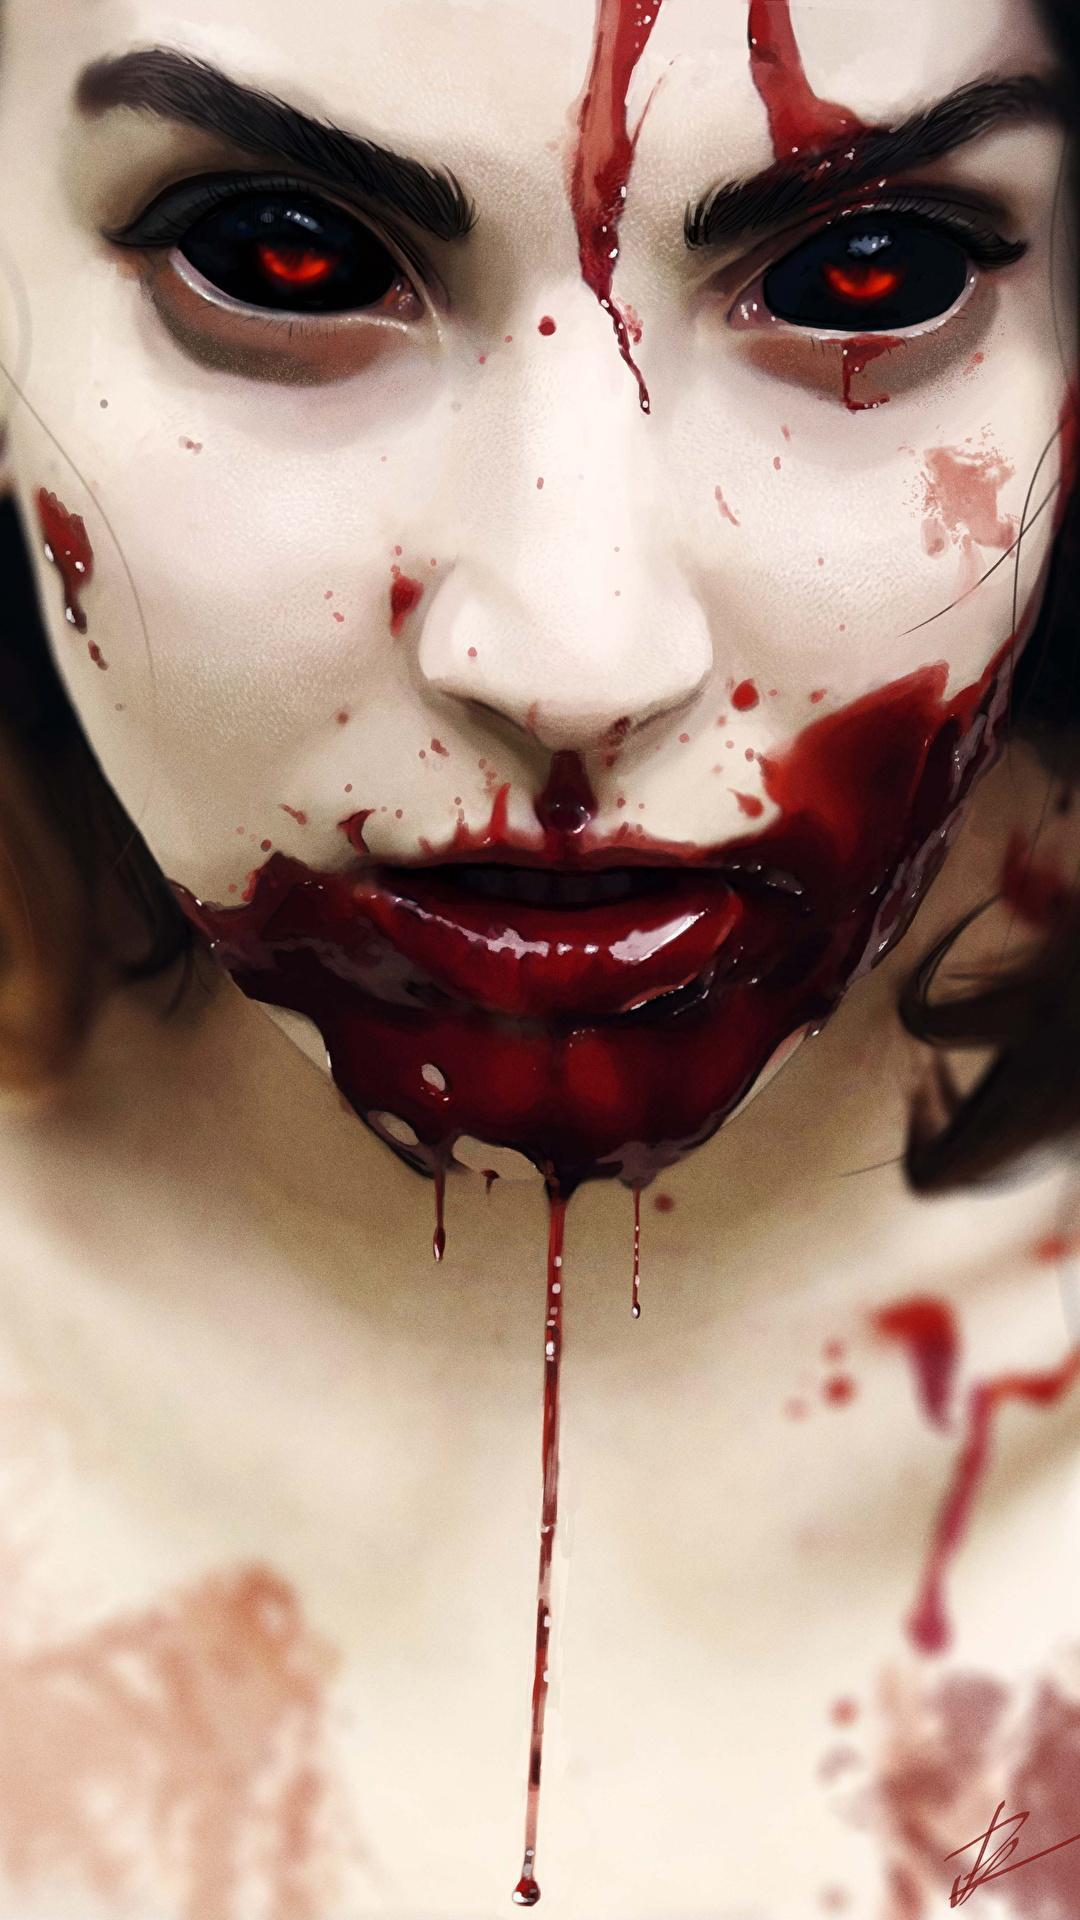Fire: (127, 438, 1054, 1920), (779, 1184, 1080, 1663), (822, 1650, 1080, 1920), (4, 400, 150, 709), (568, 0, 661, 410), (746, 0, 866, 157), (843, 335, 903, 410), (388, 563, 423, 636)
